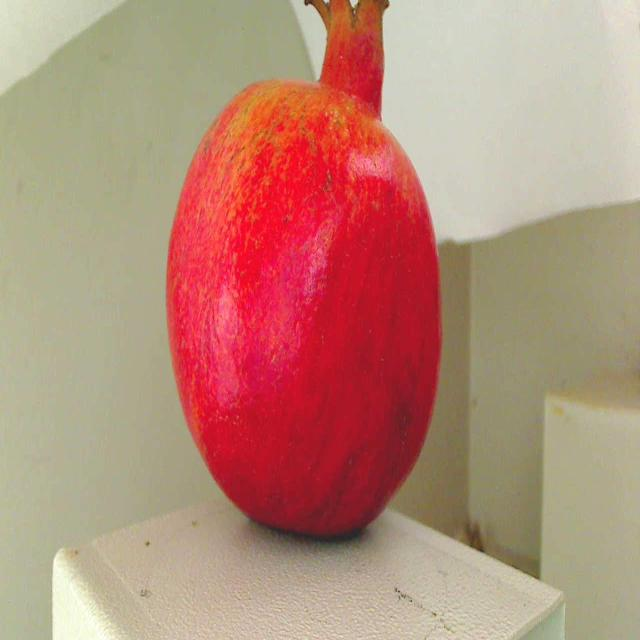pomegranate: (152, 0, 454, 564)
